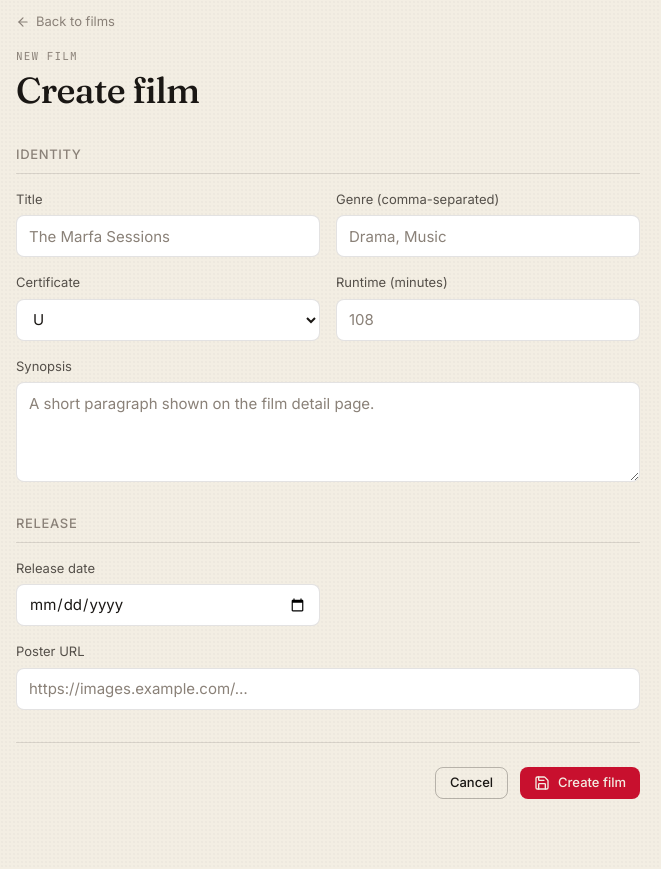
Scenario: AdminFilmFormPage › validates required fields before submitting a new film
The image size is (661, 869).
Check: the heading "Create film" is shown, box [16,68,200,112]
Step 1. Click the button "Create film" → (580, 782), box [520,766,640,798]
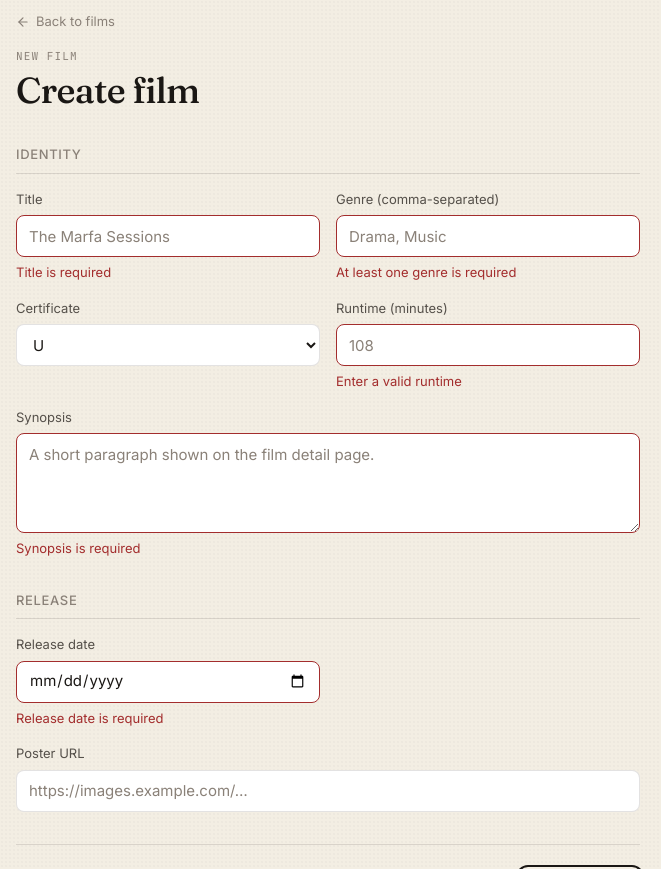
Check: the text "Title is required" is shown, box [16,264,111,280]
Check: the text "Synopsis is required" is shown, box [16,540,141,556]
Check: the text "At least one genre is required" is shown, box [336,264,516,280]
